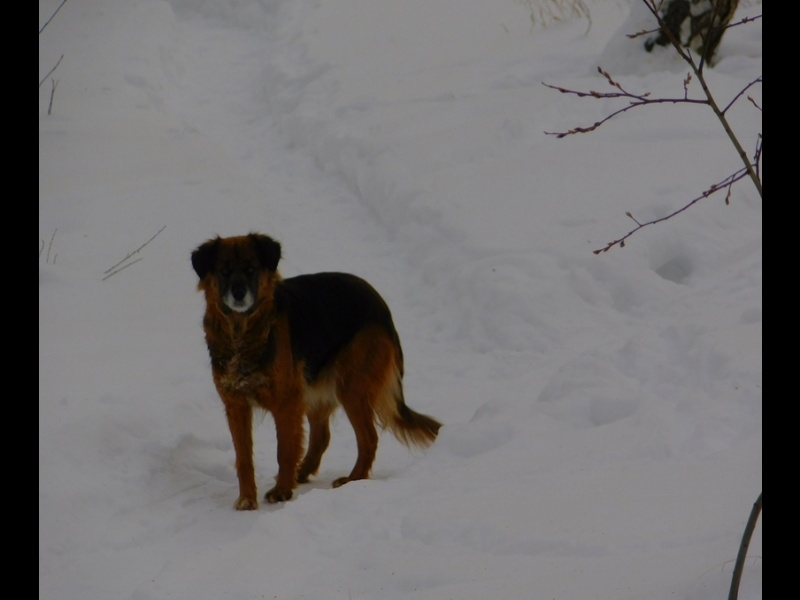dog: (188, 227, 450, 515)
